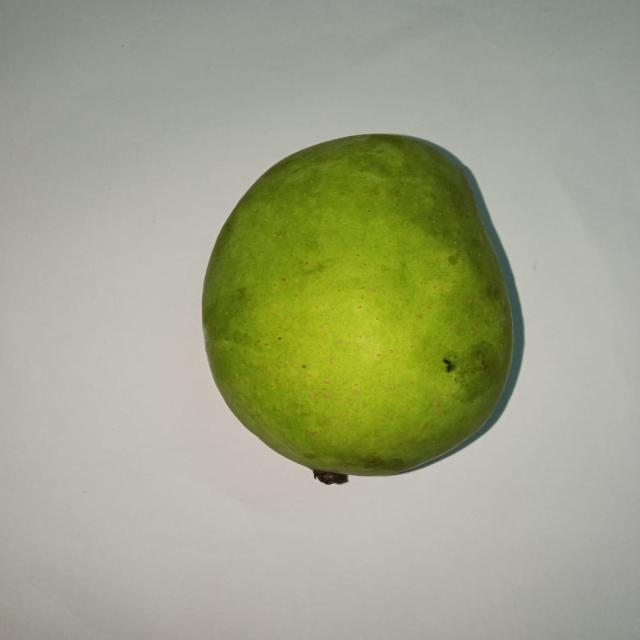fresh_mango: (200, 132, 515, 482)
